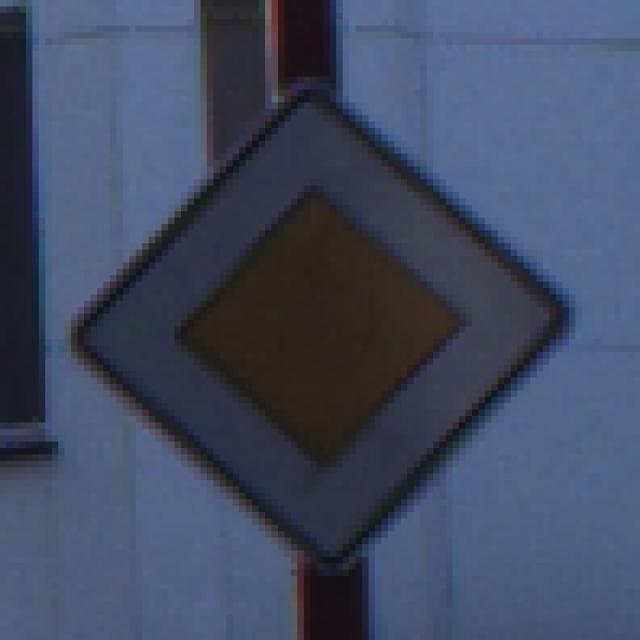Main Road: (53, 59, 589, 590)
